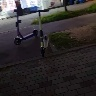beam: (9, 7, 42, 47)
gcooter: (30, 8, 53, 57)
